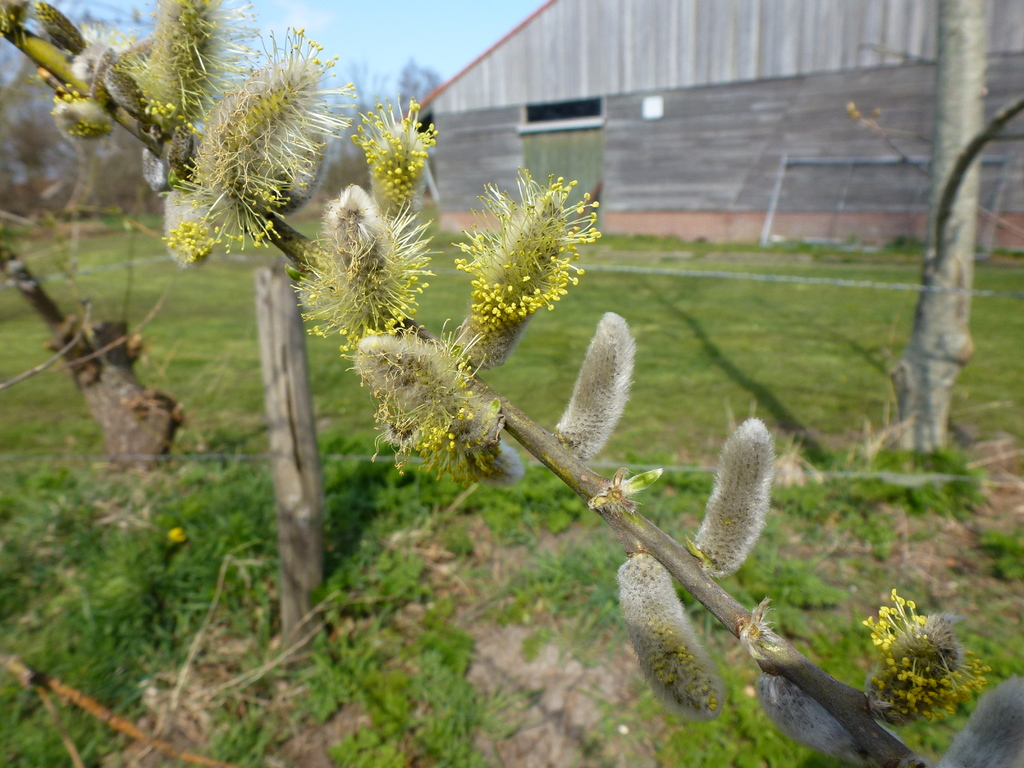Tree: (0, 0, 443, 213), (901, 1, 991, 448)
